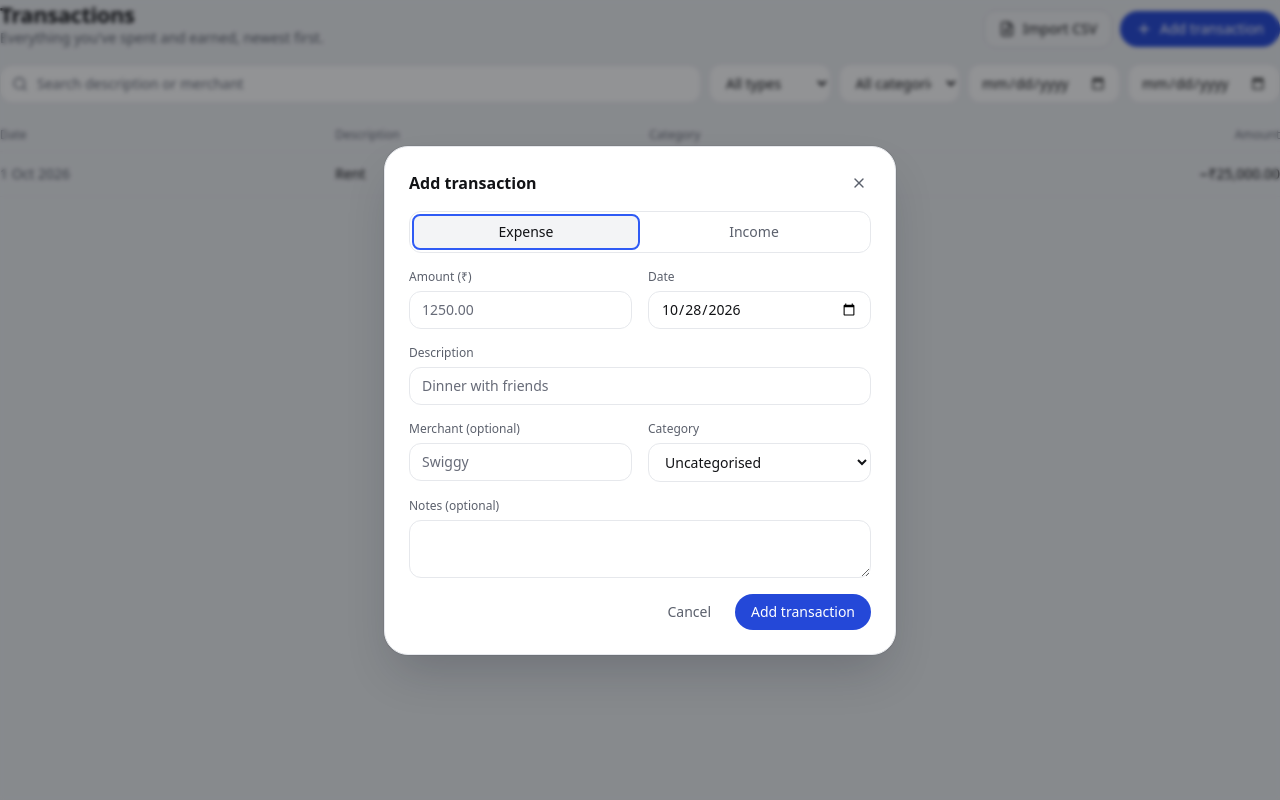
it: TransactionsPage › opens the add form from the top bar link
The image size is (1280, 800).
expect the dialog "Add transaction" is shown: met, box [384,146,896,654]
Click the button named "Close".
click(859, 182)  # box [847,170,871,194]
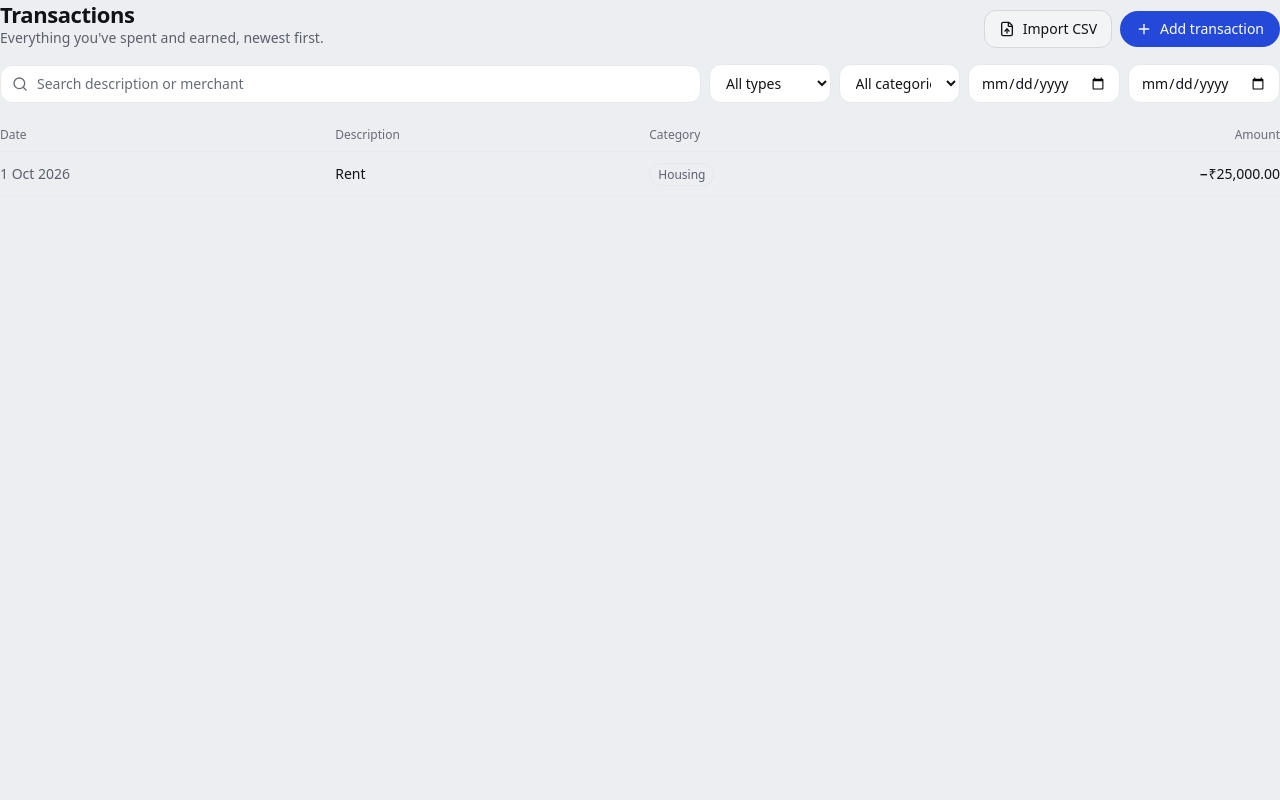
expect the dialog is gone: met
